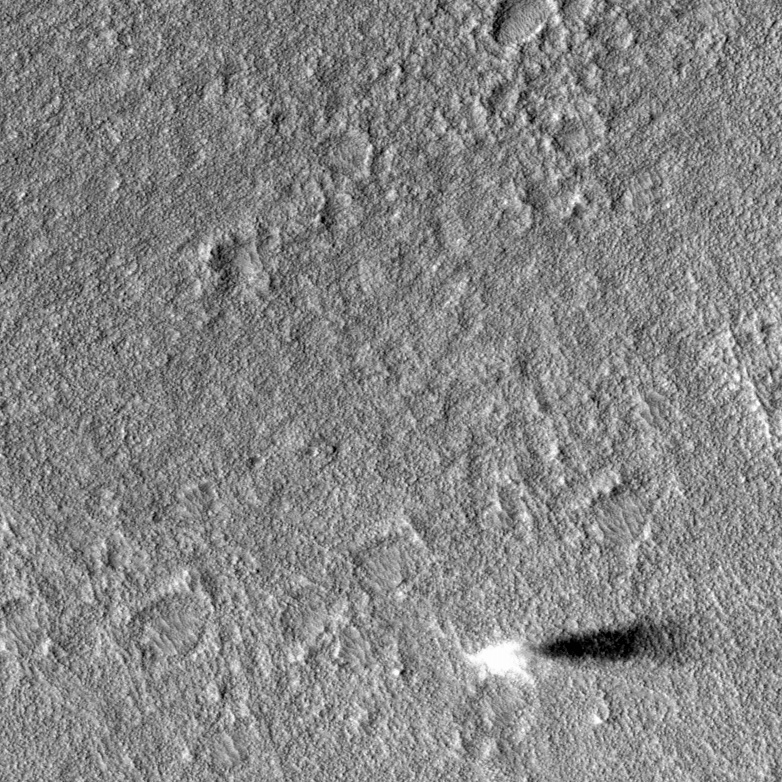dust_devil: (457, 609, 691, 689)
